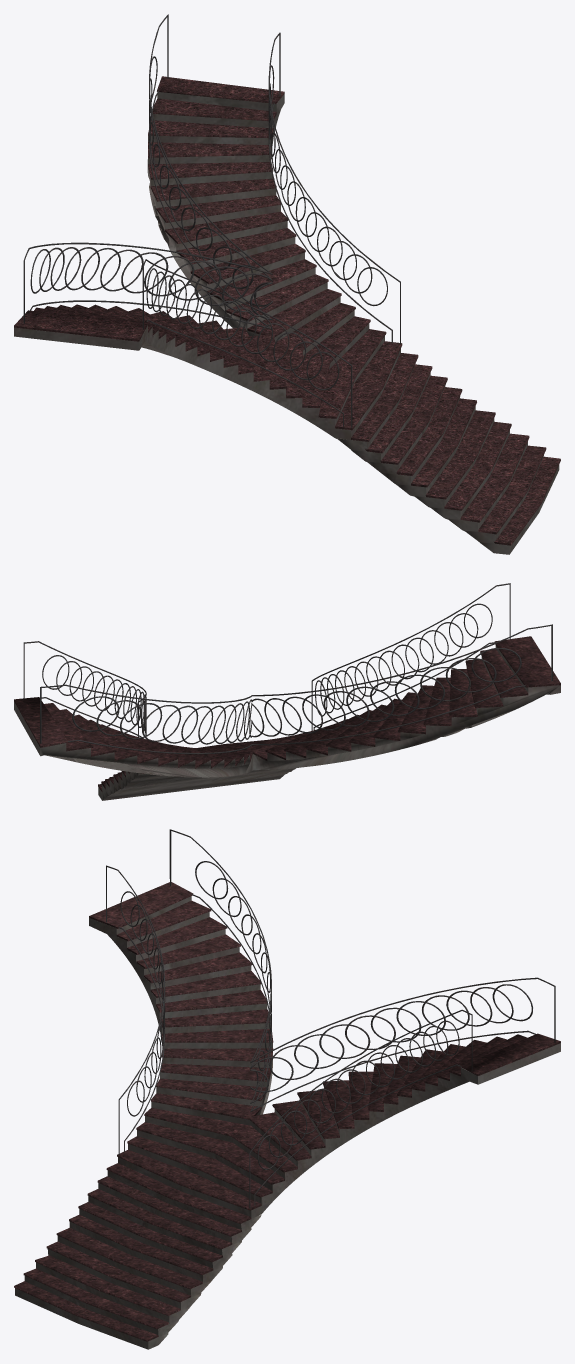
Rendered from stairs.glb.
3 renders of one model, top to bottom at view 1: azimuth 30°, elevation 25°; view 2: azimuth 150°, elevation 25°; view 3: azimuth 270°, elevation 25°, orthographic. The views are drawn at different scales.
Parts seen in each view (by area): view 1: Escalera001; view 2: Escalera001; view 3: Escalera001.
Boxes of the visible parts, bbox=[...] form: Escalera001: bbox=[14, 14, 560, 554]; Escalera001: bbox=[14, 583, 560, 800]; Escalera001: bbox=[14, 829, 560, 1349].
Bounding box in the file's own units: 3.15 × 1.85 × 3.13.
Materials: 3 (3 with a texture image).
